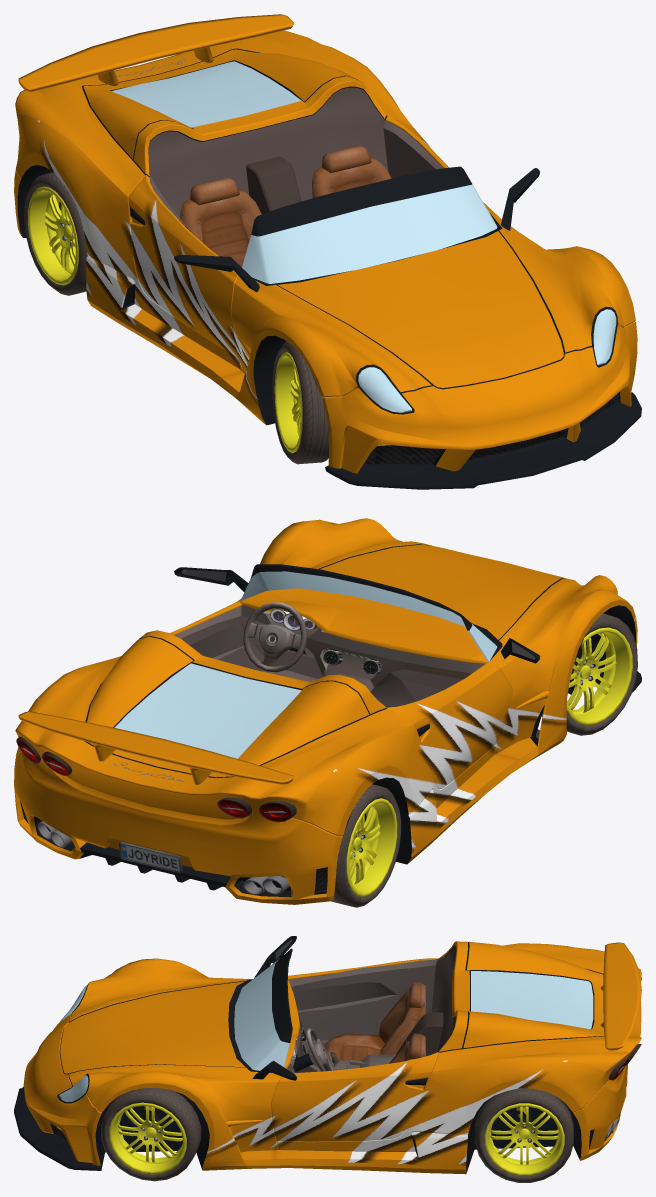
File: car.fbx
The picture shows the model from 3 angles, top to bottom: view 1: azimuth 30°, elevation 25°; view 2: azimuth 150°, elevation 25°; view 3: azimuth 270°, elevation 25°; orthographic projection. The views are drawn at different scales.
Visible parts, largest first — view 1: node_id434, node_id440, node_id432, node_id436, node_id426, node_id360, node_id416, node_id336, node_id402, node_id454, node_id398, node_id332 (+7 smaller); view 2: node_id434, node_id440, node_id432, node_id436, node_id360, node_id398, node_id416, node_id428, node_id426, node_id340, node_id414, node_id342 (+5 smaller); view 3: node_id434, node_id432, node_id440, node_id436, node_id360, node_id423, node_id405, node_id336, node_id409, node_id426, node_id421, node_id419 (+6 smaller).
Part boxes in pixels (x1,y1,x2,y2): node_id434: (14, 30, 637, 473); node_id440: (111, 61, 616, 412); node_id432: (148, 87, 442, 241); node_id436: (17, 48, 620, 466); node_id426: (149, 177, 641, 489); node_id360: (18, 14, 293, 92); node_id416: (28, 186, 78, 285); node_id336: (180, 189, 261, 267); node_id402: (281, 341, 329, 464); node_id454: (149, 167, 618, 464); node_id398: (274, 352, 302, 452); node_id332: (312, 157, 391, 197); node_id434: (14, 518, 637, 904); node_id440: (114, 571, 497, 758); node_id432: (174, 604, 484, 707); node_id436: (20, 544, 635, 897); node_id360: (18, 711, 294, 784); node_id398: (566, 627, 632, 725); node_id416: (346, 798, 397, 897); node_id428: (16, 736, 296, 822); node_id426: (80, 671, 641, 890); node_id340: (247, 622, 300, 666); node_id414: (331, 784, 395, 907); node_id342: (243, 602, 307, 672); node_id434: (23, 941, 641, 1174); node_id432: (287, 946, 456, 1072); node_id440: (59, 958, 593, 1101); node_id436: (50, 942, 610, 1173); node_id360: (600, 942, 641, 1050); node_id423: (484, 1103, 564, 1175); node_id405: (109, 1102, 186, 1174); node_id336: (324, 989, 425, 1060); node_id409: (101, 1087, 201, 1181); node_id426: (14, 1087, 101, 1170); node_id421: (475, 1088, 573, 1182); node_id419: (479, 1099, 569, 1180).
Bounding box in the file's own units: 0.512 × 0.2439 × 0.9632.
Materials: 62 (62 with a texture image).
